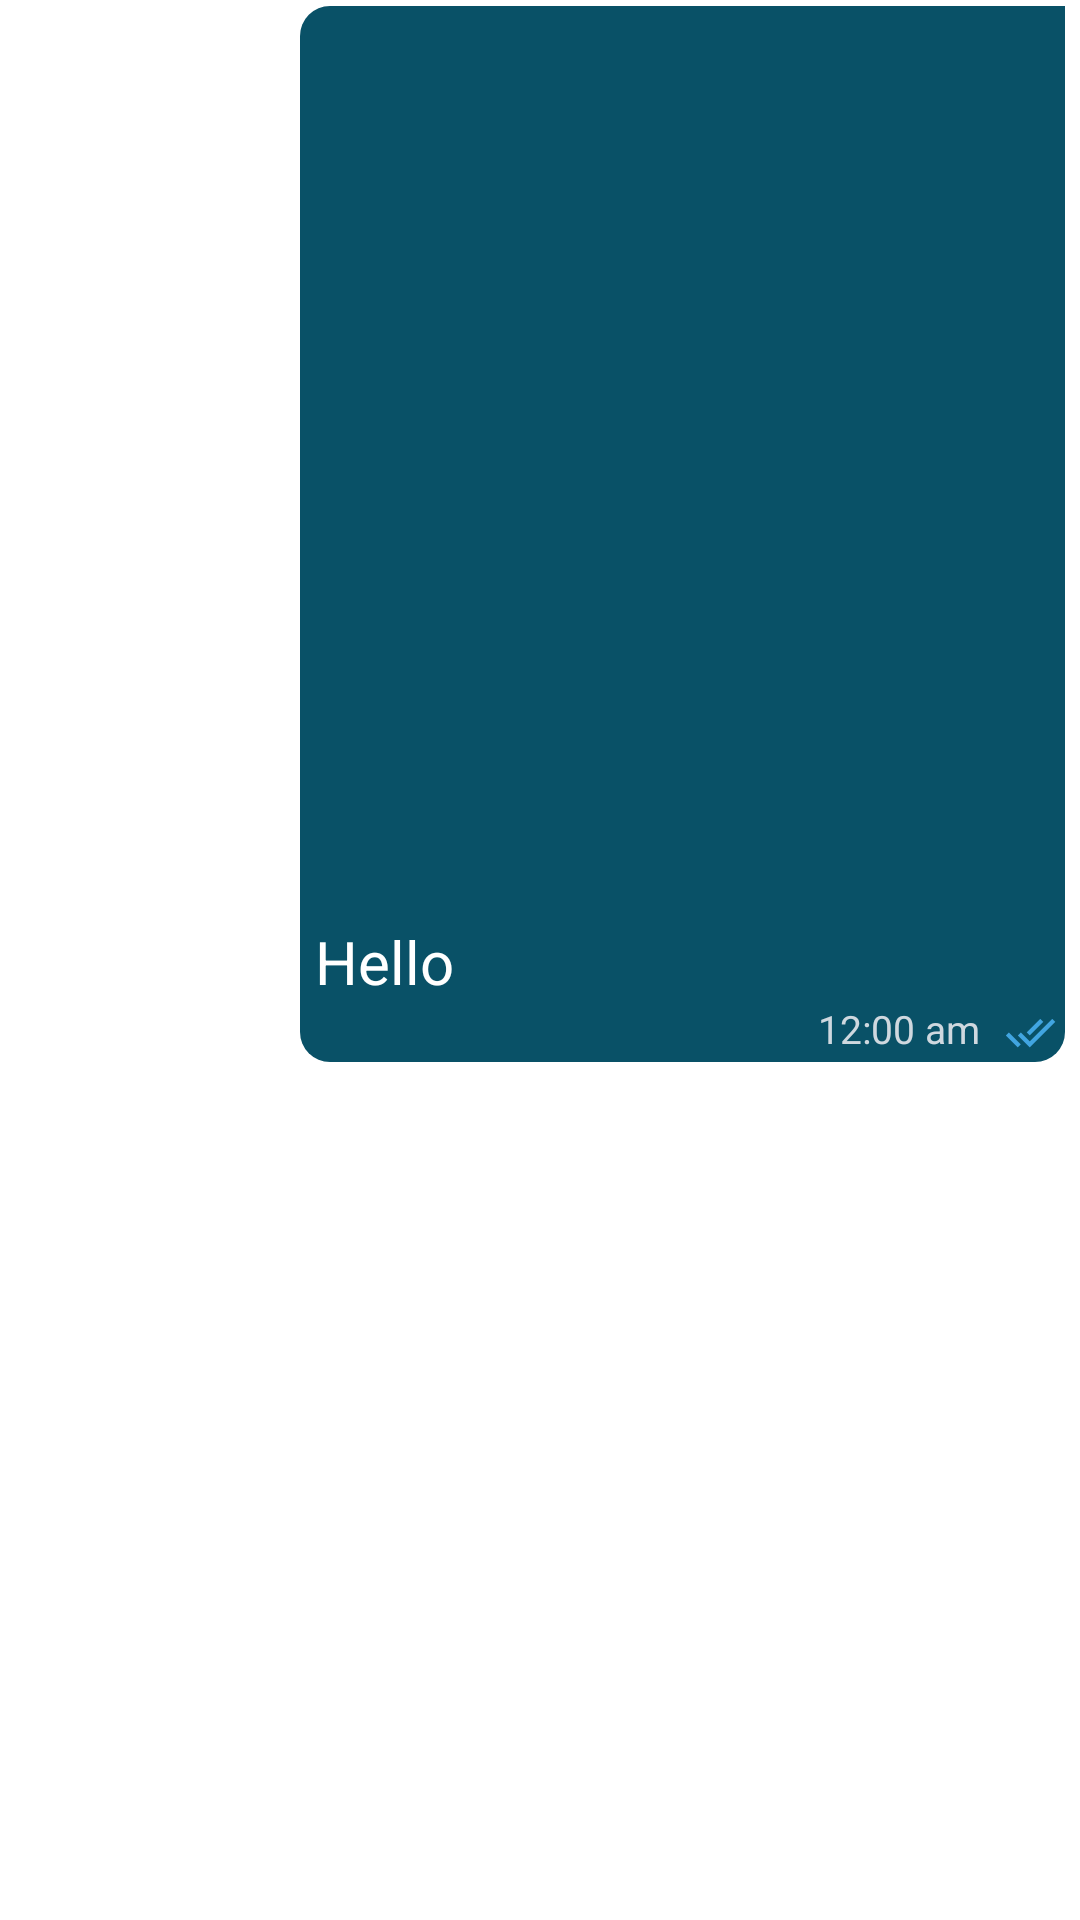

Point at icon controls on the screen. Image size 1080x1920, points as [x,y].
done all: [1035,1032]
